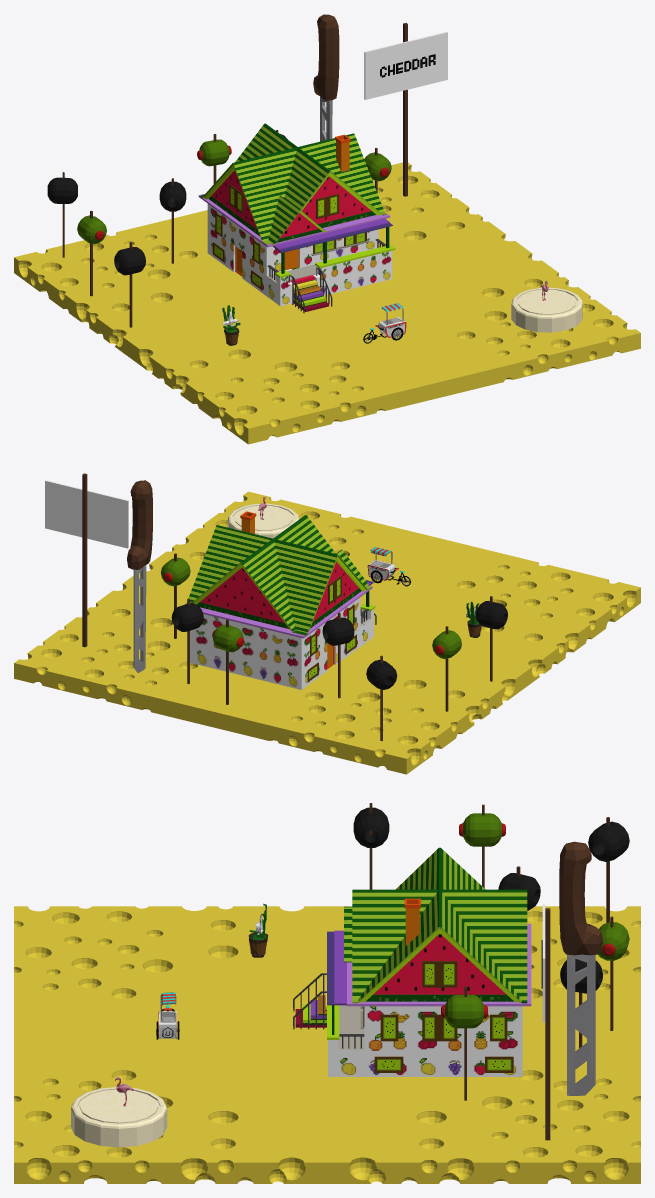
3 views of the same model, one above another, from view 1: azimuth 30°, elevation 25°; view 2: azimuth 150°, elevation 25°; view 3: azimuth 270°, elevation 25° (orthographic). The views are drawn at different scales.
Parts seen in each view (by area): view 1: Cube.022, Cube.1063, Cube.023, Cylinder.016, Cube.024, Sphere.017, Sphere.016, Sphere.020, Sphere.018, Sphere.022, VEHICLES_SNOWBAL_BIKE, Sphere.019; view 2: Cube.022, Cube.1063, Cube.023, Cube.024, Cylinder.016, Sphere.017, Sphere.020, Sphere.021, Sphere.016, Sphere.018, Sphere.022, VEHICLES_SNOWBAL_BIKE (+1 smaller); view 3: Cube.022, Cube.1063, Cube.024, Cylinder.016, Cube.023, Sphere.019, Sphere.016, Sphere.018, Sphere.017, Sphere.022, VEHICLES_SNOWBAL_BIKE, Sphere.020 (+2 smaller).
Part boxes in pixels (x1=…): Cube.022: x1=14, y1=162, x2=640, y2=444; Cube.1063: x1=198, y1=123, x2=395, y2=313; Cube.023: x1=364, y1=23, x2=447, y2=196; Cylinder.016: x1=511, y1=287, x2=582, y2=332; Cube.024: x1=313, y1=14, x2=339, y2=141; Sphere.017: x1=114, y1=242, x2=145, y2=327; Sphere.016: x1=47, y1=172, x2=77, y2=257; Sphere.020: x1=159, y1=178, x2=186, y2=263; Sphere.018: x1=77, y1=210, x2=106, y2=296; Sphere.022: x1=197, y1=134, x2=231, y2=183; VEHICLES_SNOWBAL_BIKE: x1=363, y1=303, x2=406, y2=343; Sphere.019: x1=364, y1=148, x2=391, y2=192; Cube.022: x1=14, y1=491, x2=640, y2=774; Cube.1063: x1=185, y1=511, x2=376, y2=689; Cube.023: x1=45, y1=473, x2=128, y2=647; Cube.024: x1=127, y1=480, x2=152, y2=672; Cylinder.016: x1=228, y1=503, x2=298, y2=538; Sphere.017: x1=476, y1=596, x2=507, y2=681; Sphere.020: x1=322, y1=612, x2=354, y2=698; Sphere.021: x1=171, y1=598, x2=203, y2=683; Sphere.016: x1=366, y1=655, x2=397, y2=741; Sphere.018: x1=432, y1=626, x2=461, y2=711; Sphere.022: x1=212, y1=619, x2=244, y2=704; VEHICLES_SNOWBAL_BIKE: x1=367, y1=547, x2=410, y2=586; Cube.022: x1=14, y1=906, x2=640, y2=1183; Cube.1063: x1=293, y1=847, x2=531, y2=1076; Cube.024: x1=559, y1=841, x2=602, y2=1095; Cylinder.016: x1=71, y1=1087, x2=167, y2=1147; Cube.023: x1=541, y1=904, x2=550, y2=1140; Sphere.019: x1=441, y1=986, x2=487, y2=1100; Sphere.016: x1=588, y1=817, x2=629, y2=922; Sphere.018: x1=459, y1=804, x2=505, y2=887; Sphere.017: x1=353, y1=803, x2=389, y2=889; Sphere.022: x1=598, y1=916, x2=629, y2=1030; VEHICLES_SNOWBAL_BIKE: x1=156, y1=992, x2=179, y2=1039; Sphere.020: x1=498, y1=866, x2=540, y2=910.
Size of the model in its own units: 3917 by 2007 by 4000.
41 materials, 5 textured.
